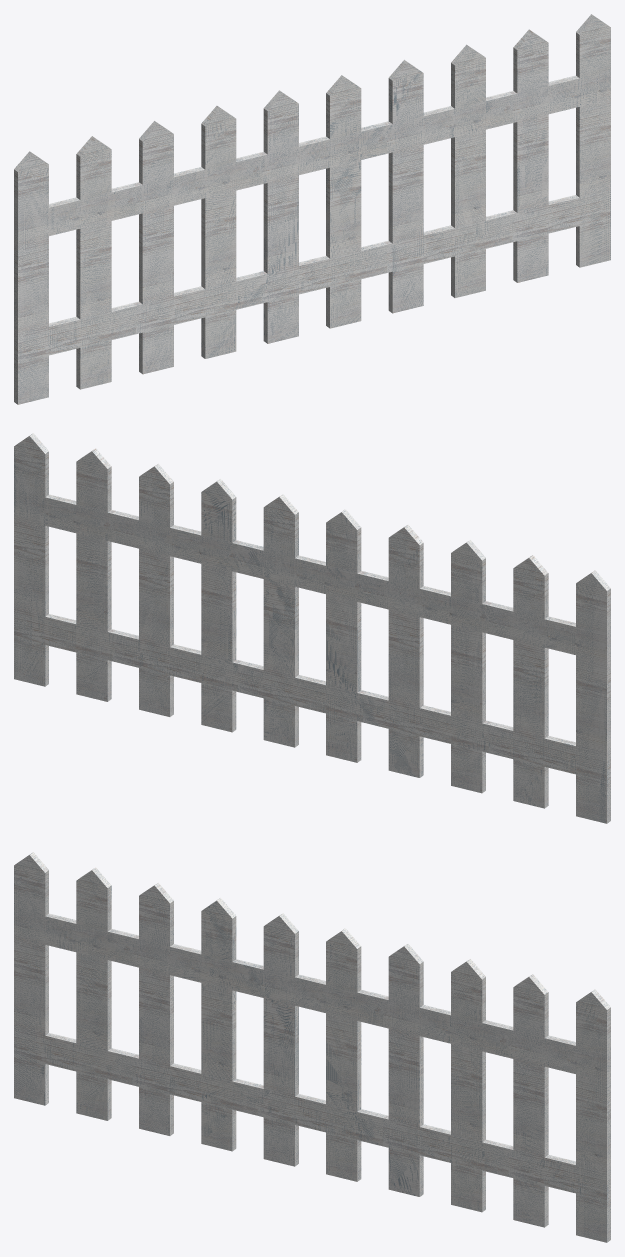
The model's file is Fench.dae.
3 views of the same model, one above another, from view 1: azimuth 30°, elevation 25°; view 2: azimuth 150°, elevation 25°; view 3: azimuth 330°, elevation 25° (orthographic).
Parts seen in each view (by area): view 1: SketchUp; view 2: SketchUp; view 3: SketchUp.
Boxes of the visible parts, x1,y1,x2,y2 form: SketchUp: [14, 14, 610, 404]; SketchUp: [14, 433, 610, 823]; SketchUp: [14, 852, 610, 1242].
Bounding box in the file's own units: 106 × 1.22 × 42.24.
